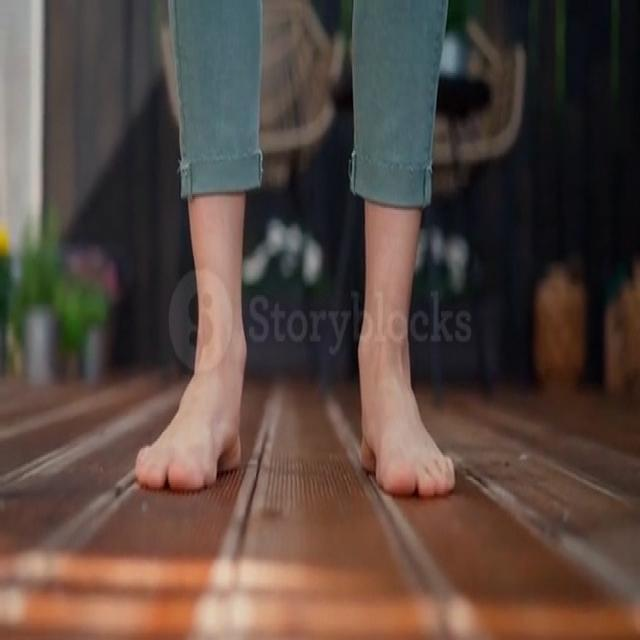No_Shoe: (352, 334, 454, 506), (141, 348, 248, 492)
